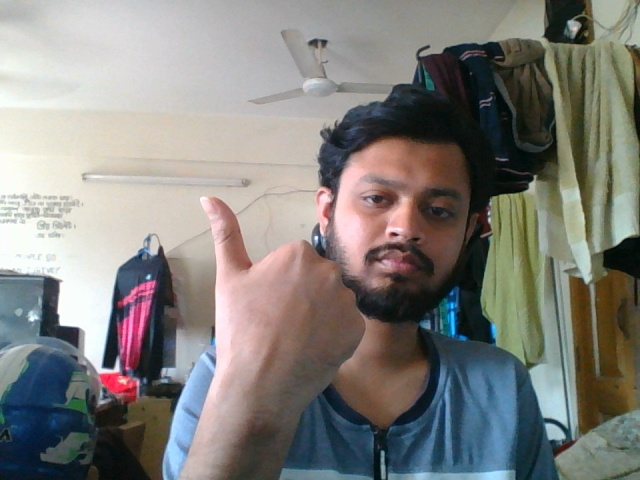do: (193, 192, 369, 467)
